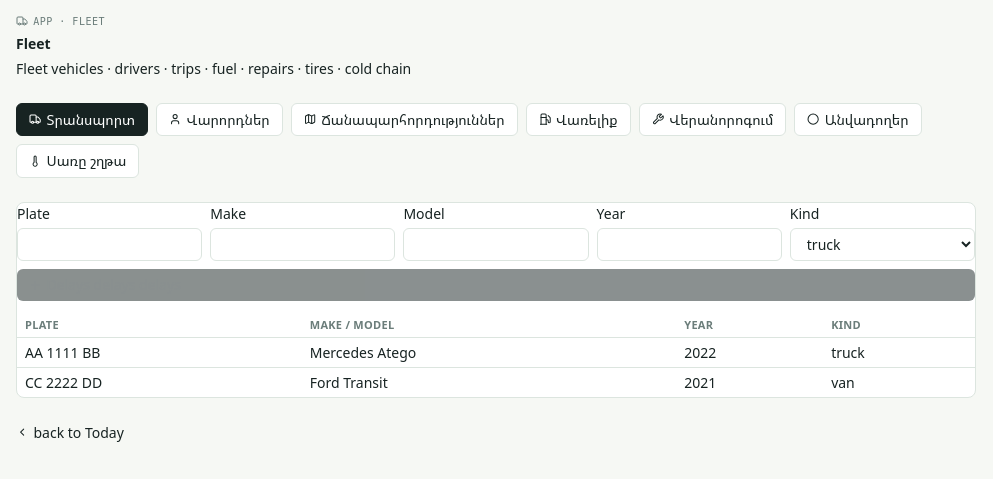
Test: Fleet — tab switching › clicking the coldchain tab reveals the fleet-coldchain-panel panel
The width and height of the screenshot is (993, 479).
Click the tab with test id "fleet-tab-coldchain" at (78, 161), box [16, 144, 139, 178]
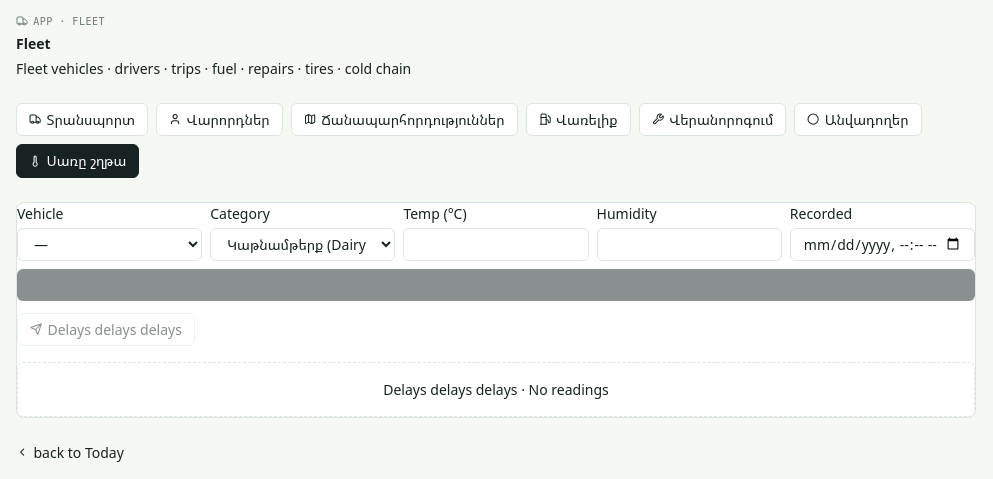
expect the element with test id "fleet-coldchain-panel" is shown: met, box [16, 202, 976, 418]
